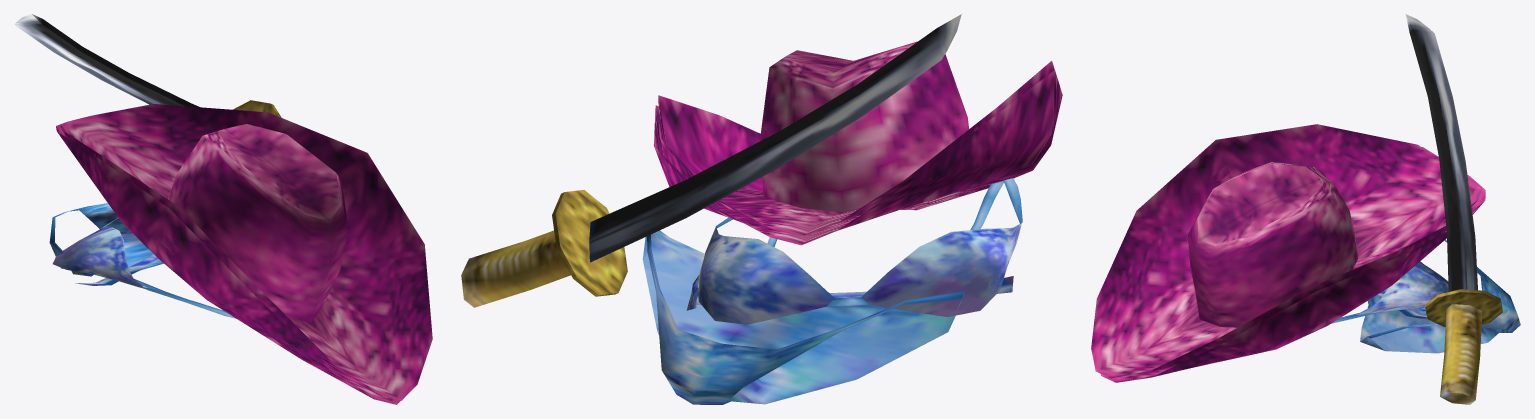
File: mcicon.ico.obj
The picture shows the model from 3 angles, left to right: view 1: azimuth 30°, elevation 25°; view 2: azimuth 150°, elevation 25°; view 3: azimuth 270°, elevation 25°; orthographic projection. The views are drawn at different scales.
Bounding box in the file's own units: 3.92 × 3.32 × 4.64.
1 material, 1 textured.
